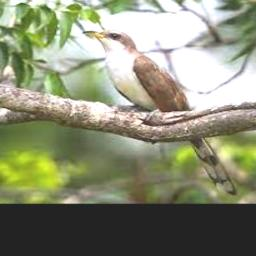Cuckoo: (81, 29, 237, 196)
